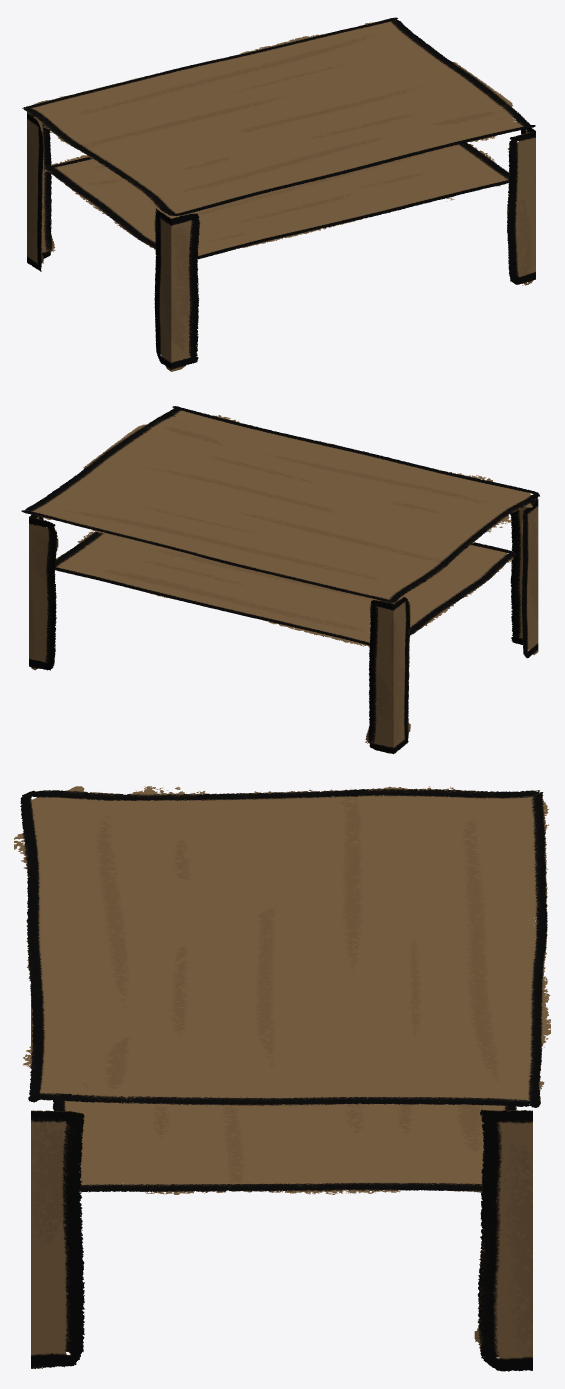
File: MSH_TableBasse.fbx
3 renders of one model, top to bottom at view 1: azimuth 30°, elevation 25°; view 2: azimuth 150°, elevation 25°; view 3: azimuth 270°, elevation 25°, orthographic. The views are drawn at different scales.
Parts seen in each view (by area): view 1: MSH_Table_Basse; view 2: MSH_Table_Basse; view 3: MSH_Table_Basse.
Boxes of the visible parts, <box> form: MSH_Table_Basse: <box>22,17,535,371</box>; MSH_Table_Basse: <box>21,406,539,754</box>; MSH_Table_Basse: <box>14,786,550,1371</box>.
Size of the model in its own units: 1.27 by 0.4997 by 0.892.
1 material, 1 textured.
